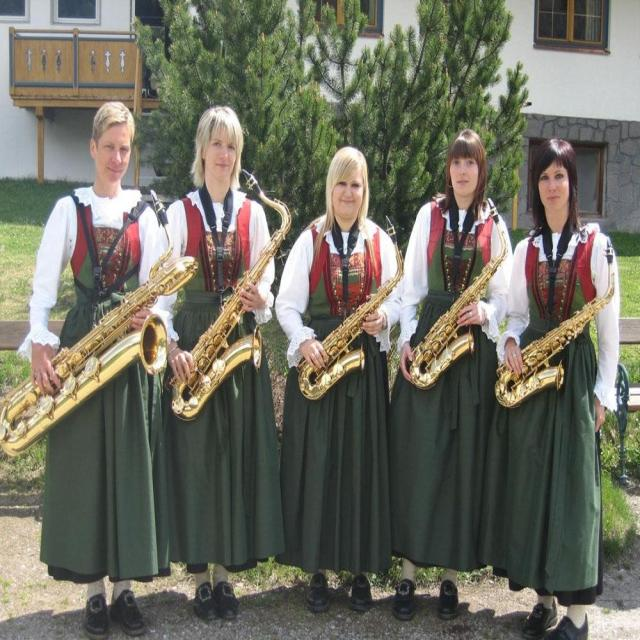saxophone: (0, 194, 200, 459), (167, 163, 293, 428), (492, 236, 622, 412), (401, 195, 511, 396), (294, 213, 403, 398)
